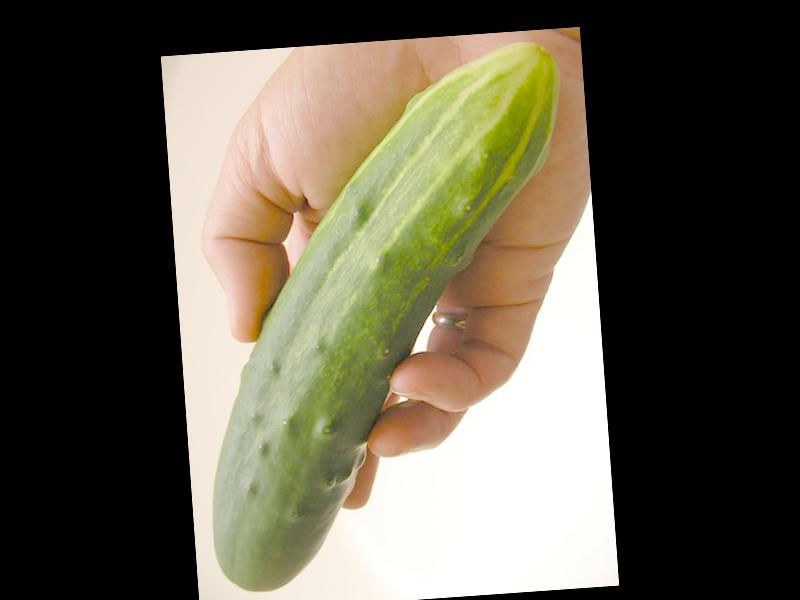Cucumber: (182, 42, 593, 594)
